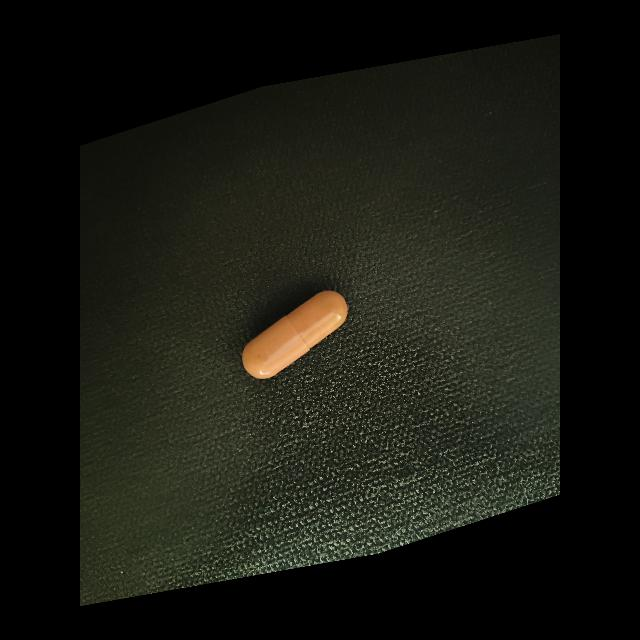Intact Capsule: (242, 291, 348, 379)
